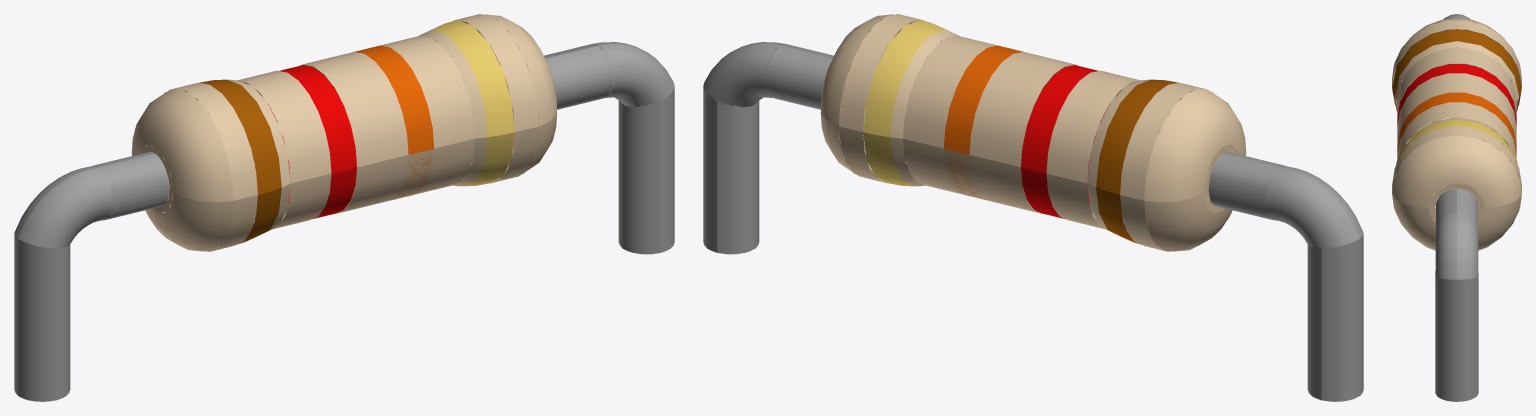
File: 棕紅橙.fbx
3 views of the same model, side by side, from view 1: azimuth 30°, elevation 25°; view 2: azimuth 150°, elevation 25°; view 3: azimuth 270°, elevation 25° (orthographic). The views are drawn at different scales.
Visible parts, largest first — view 1: nurbsToPoly261; view 2: nurbsToPoly261; view 3: nurbsToPoly261.
Boxes of the visible parts, box(x1,y1,x2,y2) form: nurbsToPoly261: box(14, 14, 674, 401); nurbsToPoly261: box(703, 14, 1363, 401); nurbsToPoly261: box(1392, 14, 1521, 401).
Size of the model in its own units: 3.19 by 1.21 by 0.7087.
